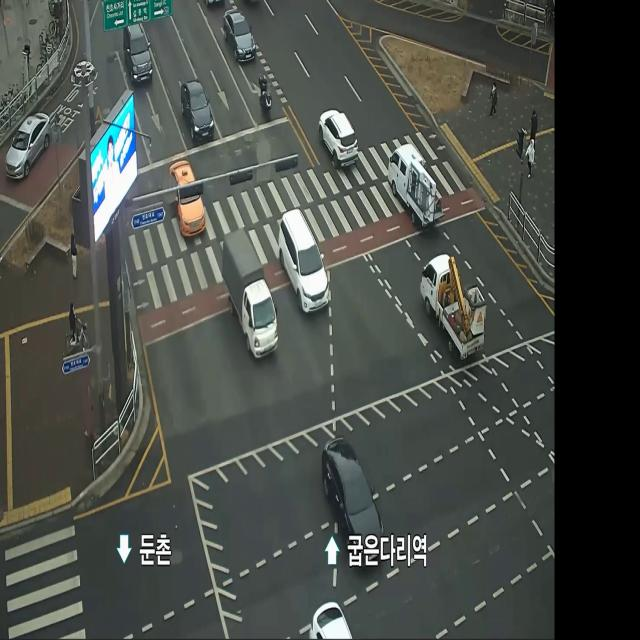bus: (258, 72, 273, 121)
motorcycle: (324, 439, 384, 577), (277, 207, 332, 319), (5, 112, 52, 181), (169, 163, 207, 236), (180, 80, 213, 145), (319, 107, 355, 165), (124, 20, 154, 85), (223, 9, 256, 65), (308, 601, 355, 640)
truck: (423, 250, 484, 376), (222, 234, 278, 353), (389, 141, 441, 230)
